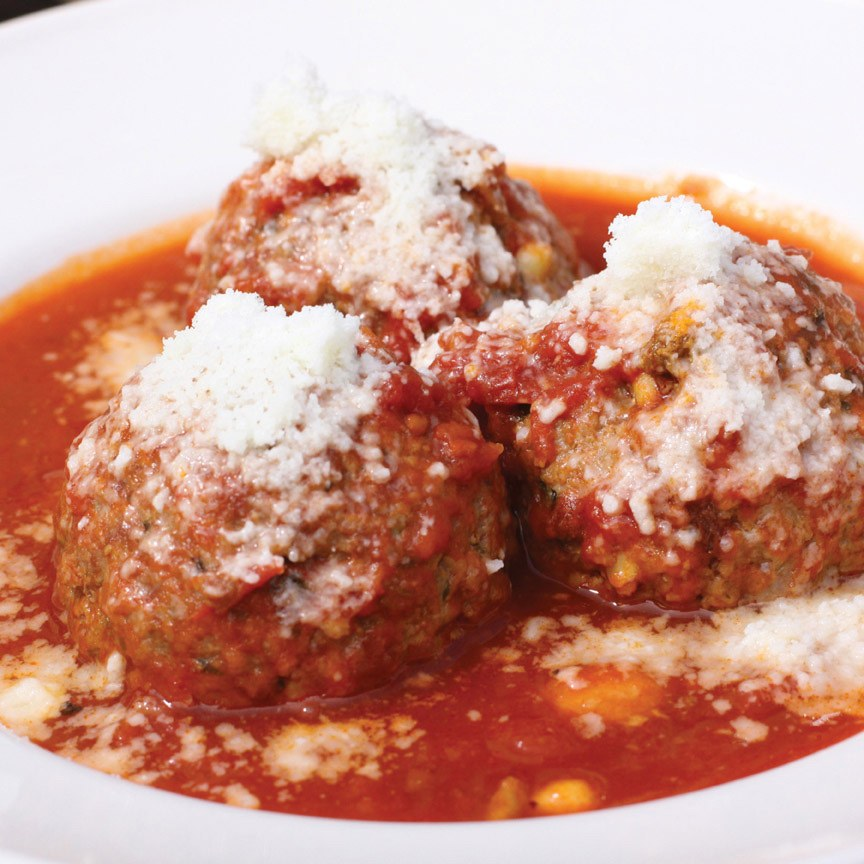meatballs: (78, 327, 506, 699), (480, 277, 854, 608), (210, 140, 558, 390)
